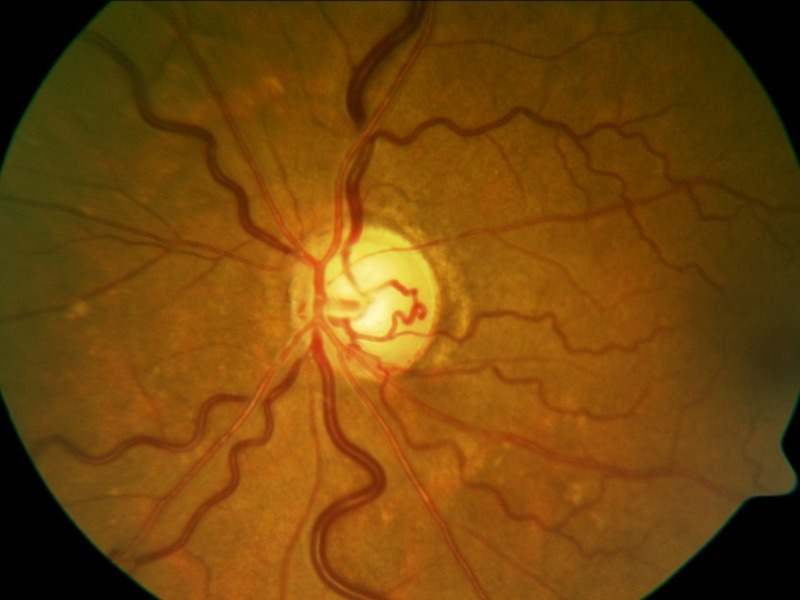Optic Cup: (320, 229, 438, 383)
Optic Disc: (291, 209, 471, 379)
